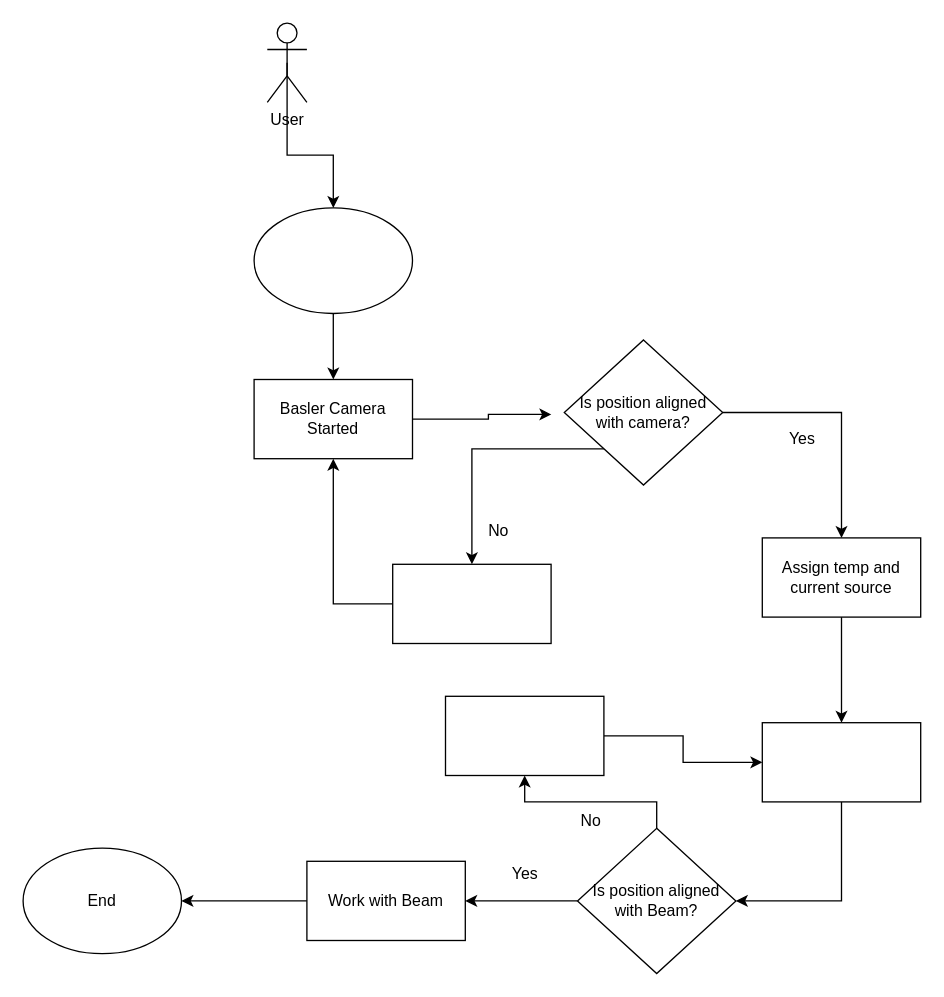
This 944x997 diagram has some shape labels left out. Here are the shapes that lost their labels. From the top down, the centre of each, then its label:
At point 332,260: "Start system".
At point 471,603: "Align position with camera".
At point 524,735: "Align position with Beam".
At point 841,761: "Start Beam".
